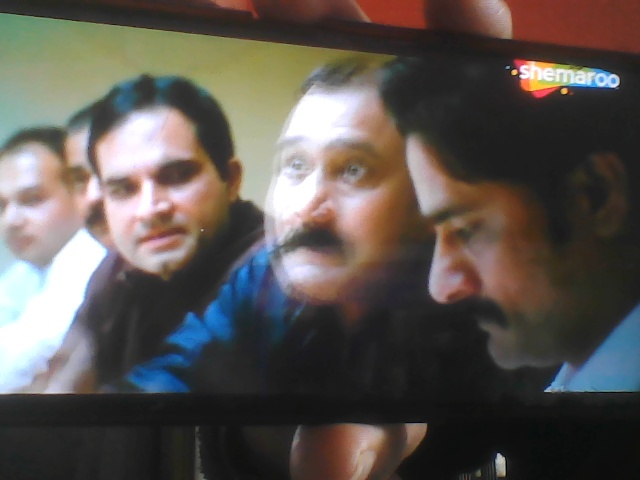fake: (403, 62, 620, 369), (253, 44, 435, 302), (84, 72, 237, 289)
